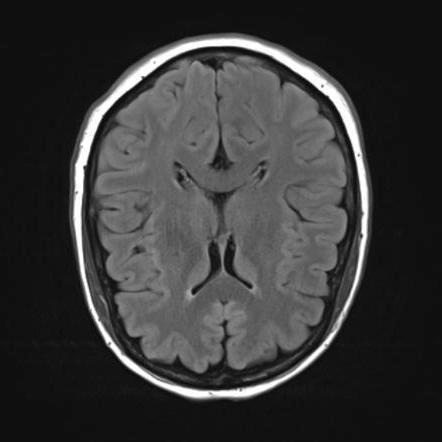Normal_Brain: (48, 1, 424, 442)
